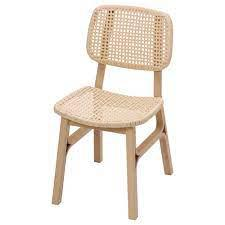chair: (47, 7, 177, 221)
